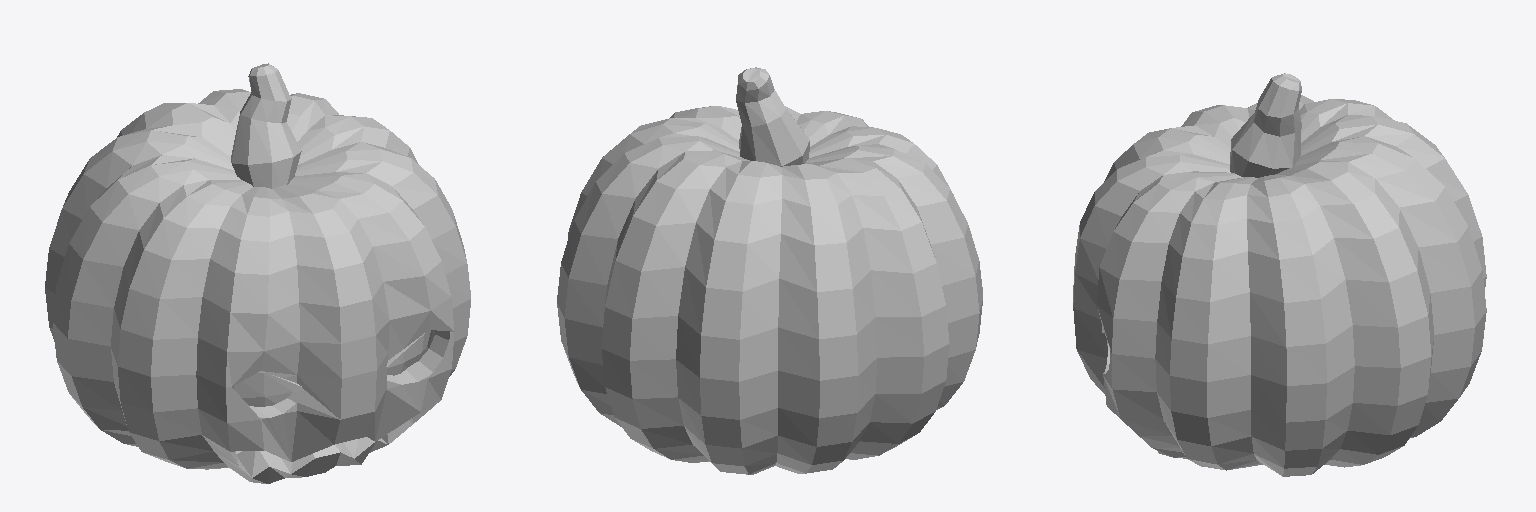
File: character_jackHat.obj
The picture shows the model from 3 angles: view 1: azimuth 30°, elevation 25°; view 2: azimuth 150°, elevation 25°; view 3: azimuth 270°, elevation 25°; orthographic projection.
Parts seen in each view (by area): view 1: character_jackHat_Sphere.001; view 2: character_jackHat_Sphere.001; view 3: character_jackHat_Sphere.001.
Part boxes in pixels (bbox=[...]): character_jackHat_Sphere.001: bbox=[45, 63, 470, 483]; character_jackHat_Sphere.001: bbox=[557, 67, 982, 474]; character_jackHat_Sphere.001: bbox=[1073, 73, 1486, 476].
Size of the model in its own units: 1.34 by 1.29 by 1.3.